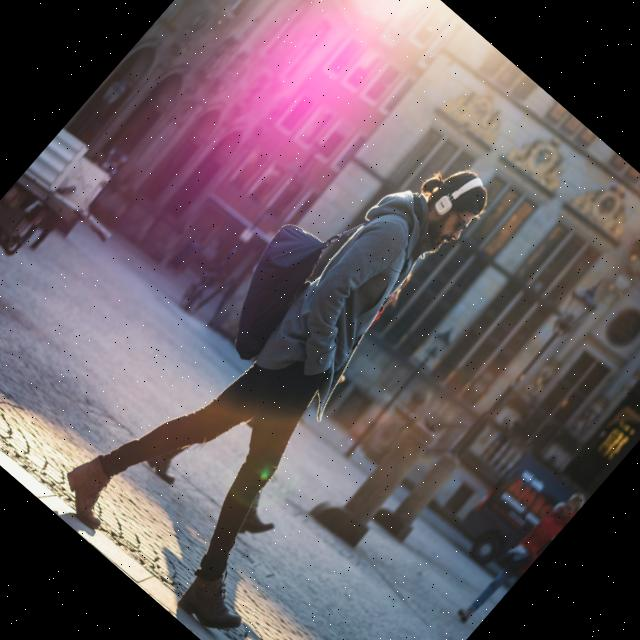Person: (50, 102, 564, 640), (455, 482, 589, 632)
